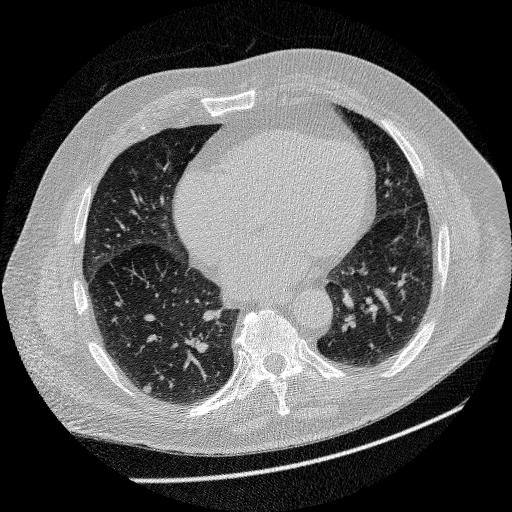nodule: (139, 382, 154, 397)
